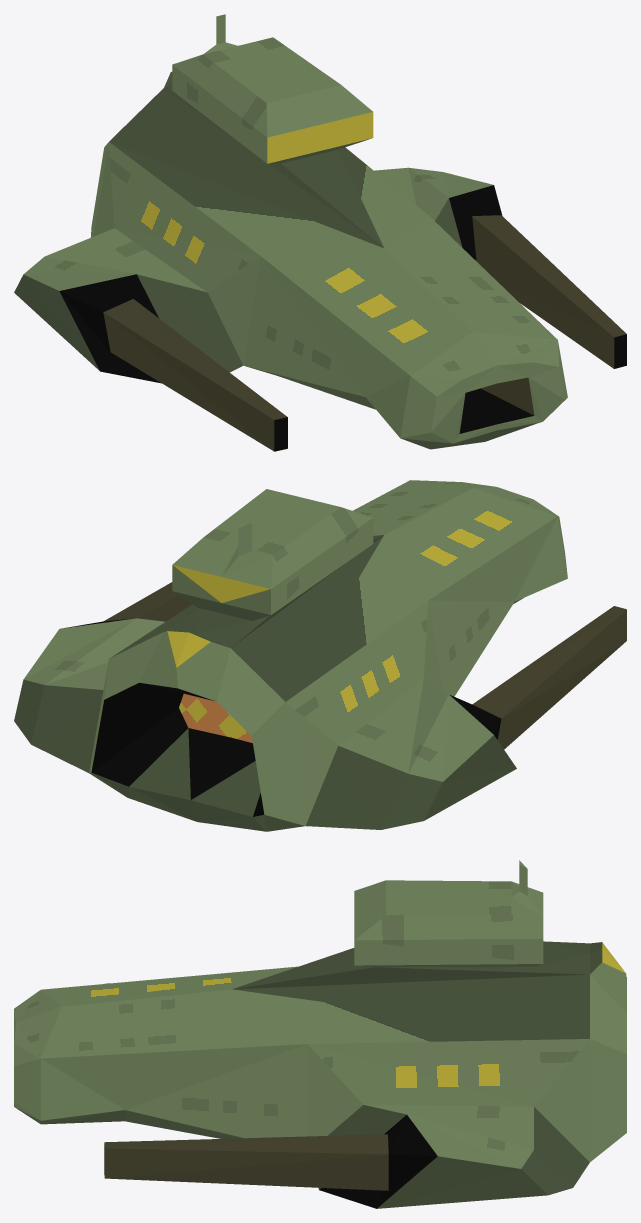
Rendered from gamilon_medium2.glb.
The picture shows the model from 3 angles, top to bottom: view 1: azimuth 30°, elevation 25°; view 2: azimuth 150°, elevation 25°; view 3: azimuth 270°, elevation 25°; orthographic projection. The views are drawn at different scales.
Visible parts, largest first — view 1: GamilonMedium; view 2: GamilonMedium; view 3: GamilonMedium.
Boxes of the visible parts, x1=… form: GamilonMedium: x1=14, y1=14, x2=626, y2=451; GamilonMedium: x1=14, y1=480, x2=626, y2=831; GamilonMedium: x1=14, y1=860, x2=626, y2=1208.
Bounding box in the file's own units: 4.65 × 2.82 × 5.93.
1 material, 1 textured.
